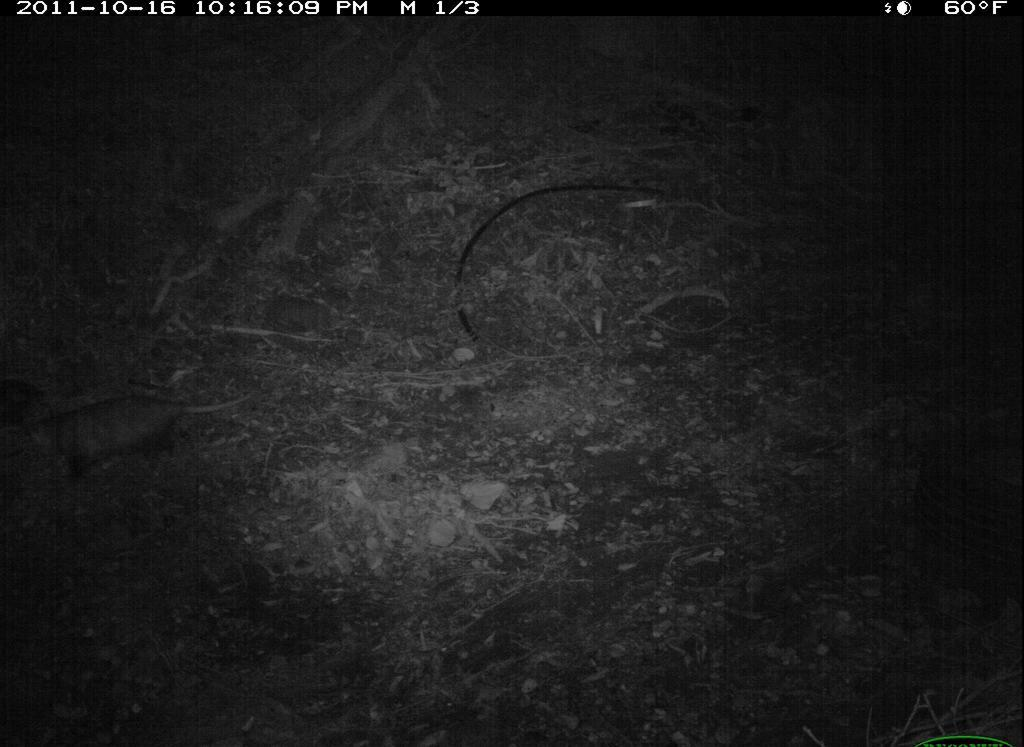opossum: (24, 390, 271, 482)
